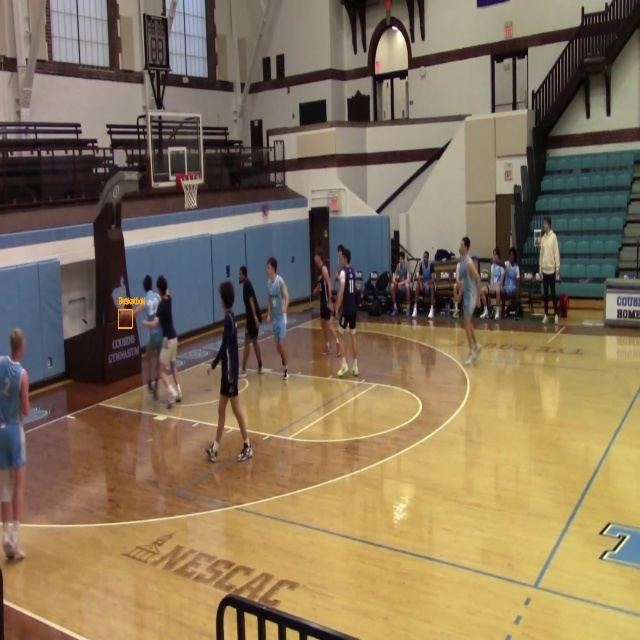Basketball: (118, 310, 132, 328)
